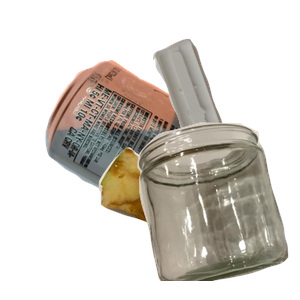glass: (135, 120, 300, 300)
metal: (43, 58, 283, 238)
plastic: (150, 36, 300, 173)
trash: (96, 145, 295, 300)
